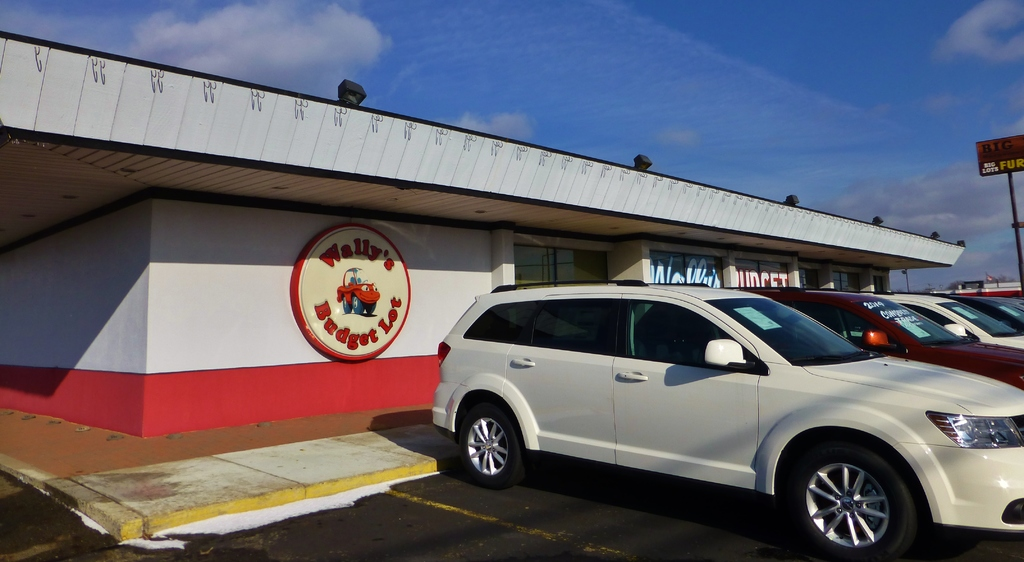Car: (430, 279, 1023, 561), (724, 287, 1023, 390), (853, 291, 1023, 351), (947, 296, 1023, 330), (993, 299, 1023, 312)
